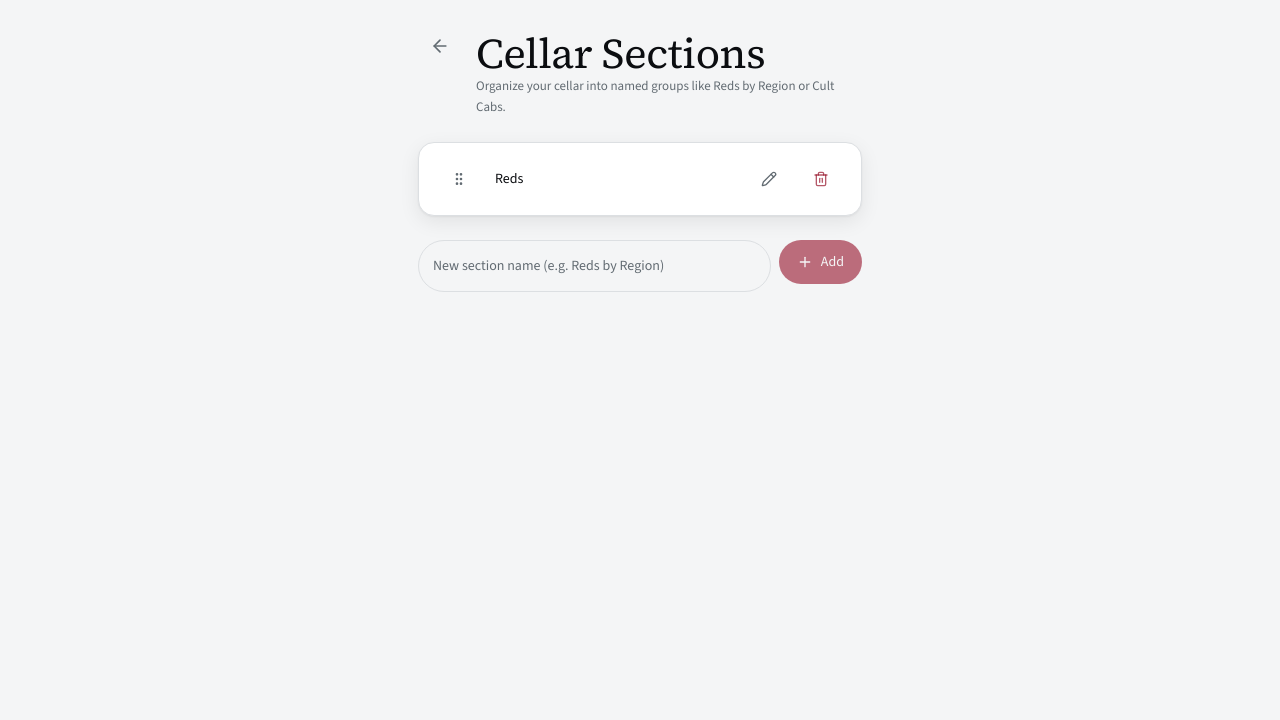
Test: Manage Cellar Sections mobile layout › separates the delete confirmation from ordinary edits and keeps its actions touch sized
Click the button named "Delete Reds": (821, 179) x1=799 y1=157 x2=843 y2=201
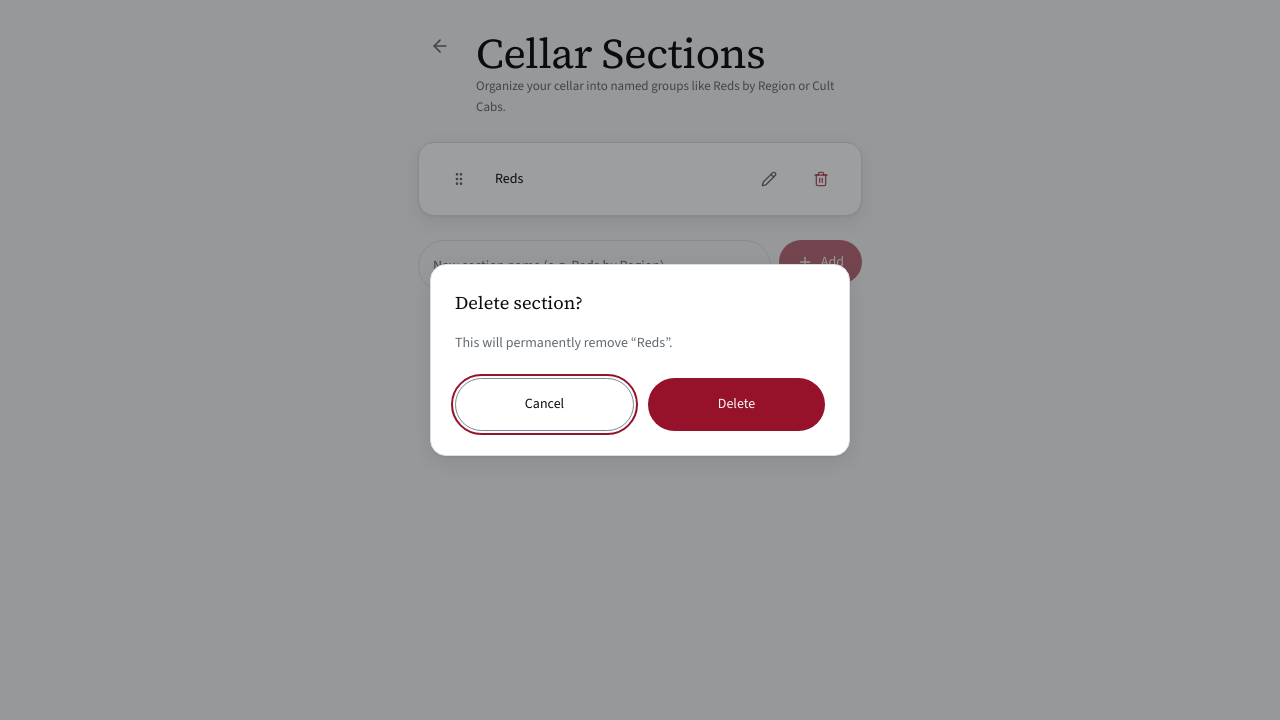
Expected: the dialog is shown, x1=430 y1=264 x2=850 y2=456
Expected: the button "Cancel" is shown, x1=455 y1=378 x2=634 y2=431
Expected: the button "Delete" is shown, x1=648 y1=378 x2=825 y2=431
